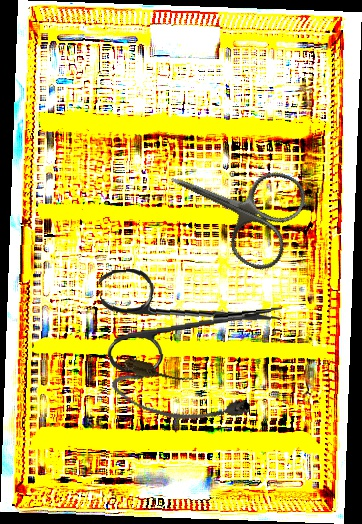Cannula: (107, 354, 255, 440)
Iris Scissors: (151, 132, 313, 277), (98, 258, 286, 376)
